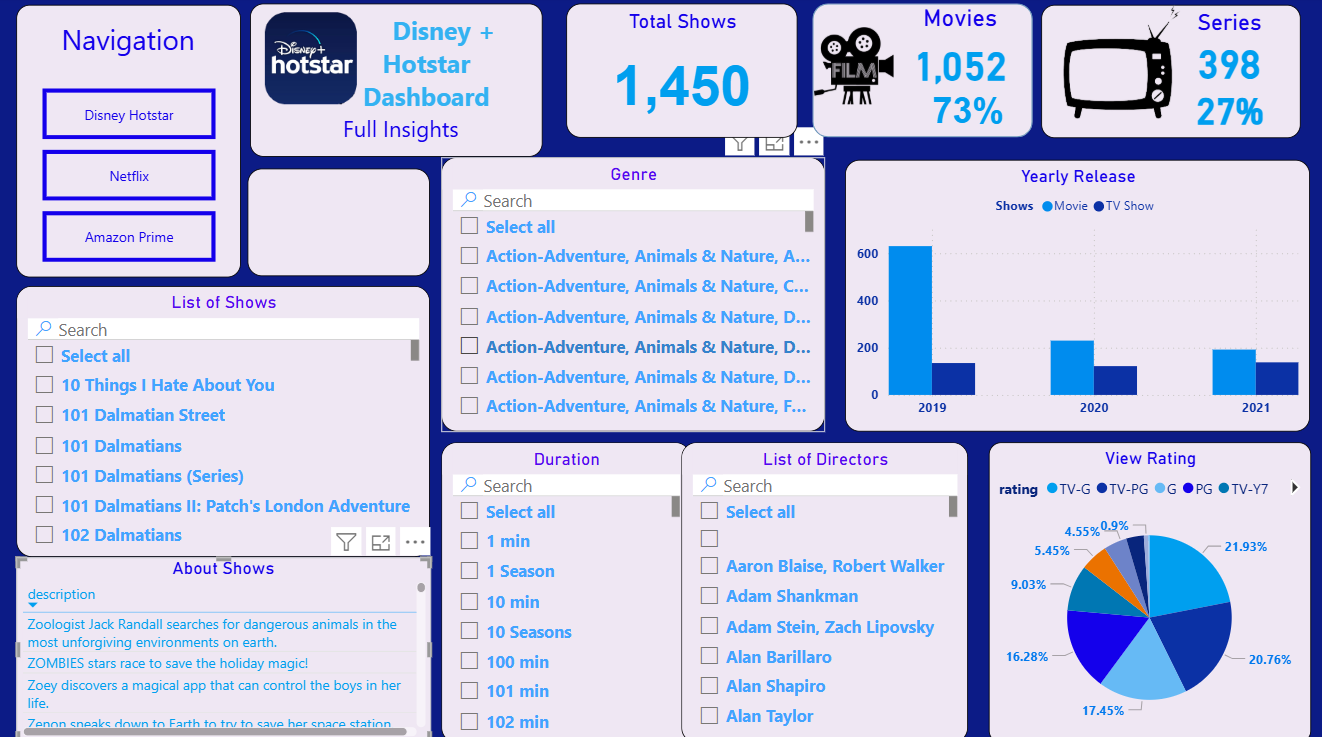

The page's visual inventory and layout, read from the dashboard file:
{"tool":"powerbi","page":{"name":"Disney Hotstar","canvas":[1280,720],"ordinal":0},"visuals":[{"type":"slicer","title":"List of Shows","fields":{"Values":["disney_plus_titles.title"]},"box":[15.8,279.9,399.6,261.9],"z":0},{"type":"slicer","title":"Genre","fields":{"Values":["disney_plus_titles.listed_in"]},"box":[425.9,155.5,370.1,265],"z":1000},{"type":"slicer","title":"Duration","fields":{"Values":["disney_plus_titles.duration"]},"box":[425.9,430.3,240.9,290.2],"z":2000},{"type":"slicer","title":"List of Directors","fields":{"Values":["disney_plus_titles.director"]},"box":[658.1,430.3,277,290.2],"z":3000},{"type":"pieChart","title":"View Rating","fields":{"Y":["disney_plus_titles.View Rating"],"Category":["disney_plus_titles.rating"]},"box":[953.7,430.3,311,290.2],"z":4000},{"type":"clusteredColumnChart","title":"Yearly Release","fields":{"Category":["disney_plus_titles.date_added.Variation.Date Hierarchy.Year"],"Series":["disney_plus_titles.type"],"Y":["CountNonNull(disney_plus_titles.type)"]},"box":[815.7,157.7,448.9,262.8],"z":5000},{"type":"textbox","box":[240.9,7.7,282.5,147.8],"z":6000},{"type":"image","box":[232.1,15.3,136.9,88.7],"z":7000},{"type":"card","title":"Total Shows","fields":{"Values":["disney_plus_titles.Total Shows"]},"box":[546.4,7.7,223.4,129.2],"z":8000},{"type":"shape","box":[784,7.7,212.4,129.2],"z":9000},{"type":"card","title":"Movies","fields":{"Values":["disney_plus_titles.Movies"]},"box":[769.8,7.7,314.3,88.7],"z":10000},{"type":"image","box":[757.7,29.6,132.5,74.5],"z":11000},{"type":"card","fields":{"Values":["disney_plus_titles.movie percent"]},"box":[864.6,59.8,140,98.2],"z":12000},{"type":"textbox","box":[1004.6,7.9,250.6,128.7],"z":13000},{"type":"card","title":"Series","fields":{"Values":["disney_plus_titles.Series"]},"box":[1092.6,13.5,187.4,75.6],"z":14000},{"type":"card","fields":{"Values":["disney_plus_titles.Series Percent"]},"box":[1093.8,33.9,186.2,150.1],"z":15000},{"type":"image","box":[1014.7,7.9,136.6,109.5],"z":16000},{"type":"textbox","box":[15.8,7.9,216.7,263],"z":17000},{"type":"pageNavigator","box":[40.6,89.2,167.1,167.1],"z":18000},{"type":"textbox","box":[239.3,167.1,176.1,103.8],"z":19000},{"type":"textbox","box":[54.2,18.1,199.8,95.9],"z":20000},{"type":"tableEx","title":"About Shows","fields":{"Values":["disney_plus_titles.description"]},"box":[16,542,400,178],"z":21000}]}

Visuals, with their boxes in screenshot pixels (x1, y1, x2, y2), scaled from the page's 1280x720 canvas onto the 1322x737 screenshot:
"List of Shows" slicer: select_region(16, 287, 429, 555)
"Genre" slicer: select_region(440, 159, 822, 430)
"Duration" slicer: select_region(440, 440, 689, 736)
"List of Directors" slicer: select_region(680, 440, 966, 736)
"View Rating" pieChart: select_region(985, 440, 1306, 736)
"Yearly Release" clusteredColumnChart: select_region(842, 161, 1306, 430)
textbox: select_region(249, 8, 541, 159)
image: select_region(240, 16, 381, 106)
"Total Shows" card: select_region(564, 8, 795, 140)
shape: select_region(810, 8, 1029, 140)
"Movies" card: select_region(795, 8, 1120, 99)
image: select_region(783, 30, 919, 107)
card - disney_plus_titles.movie percent: select_region(893, 61, 1038, 162)
textbox: select_region(1038, 8, 1296, 140)
"Series" card: select_region(1128, 14, 1321, 91)
card - disney_plus_titles.Series Percent: select_region(1130, 35, 1321, 188)
image: select_region(1048, 8, 1189, 120)
textbox: select_region(16, 8, 240, 277)
pageNavigator: select_region(42, 91, 215, 262)
textbox: select_region(247, 171, 429, 277)
textbox: select_region(56, 19, 262, 117)
"About Shows" tableEx: select_region(17, 555, 430, 736)
